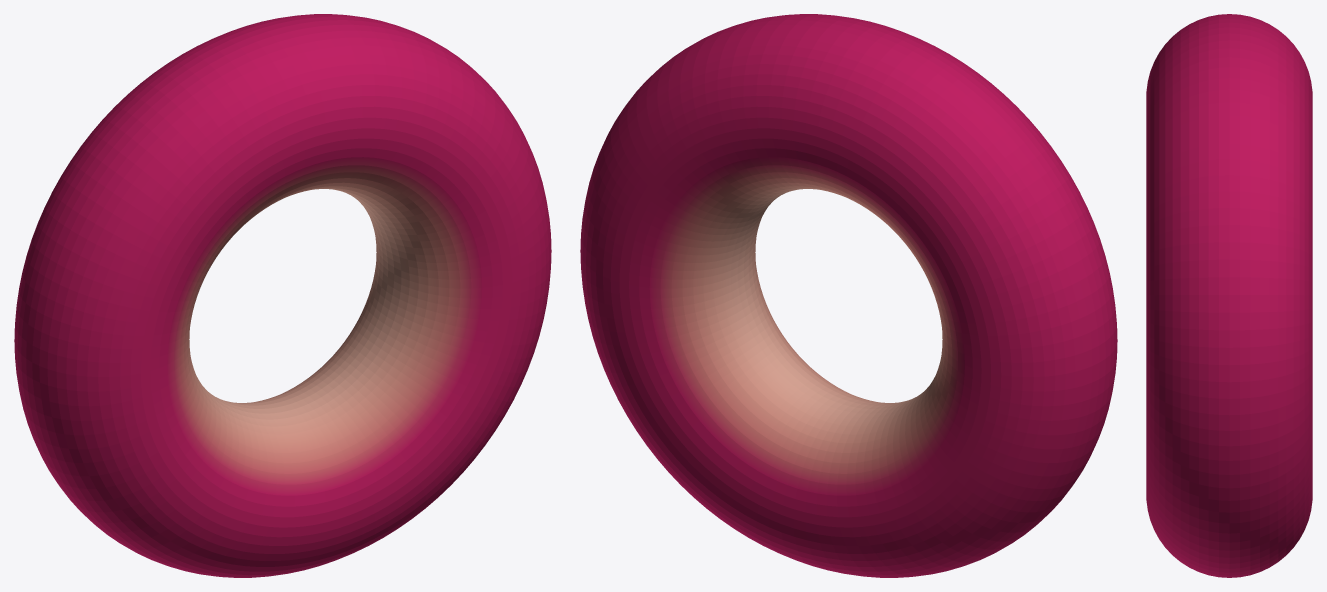
3 views of the same model, side by side, from view 1: azimuth 30°, elevation 25°; view 2: azimuth 150°, elevation 25°; view 3: azimuth 270°, elevation 25° (orthographic). The views are drawn at different scales.
Visible parts, largest first — view 1: world; view 2: world; view 3: world.
Boxes of the visible parts, box(x1,y1,x2,y2) form: world: box(14, 14, 551, 577); world: box(580, 14, 1117, 577); world: box(1146, 14, 1312, 577).
Bounding box in the file's own units: 30.27 × 30.27 × 8.92.
